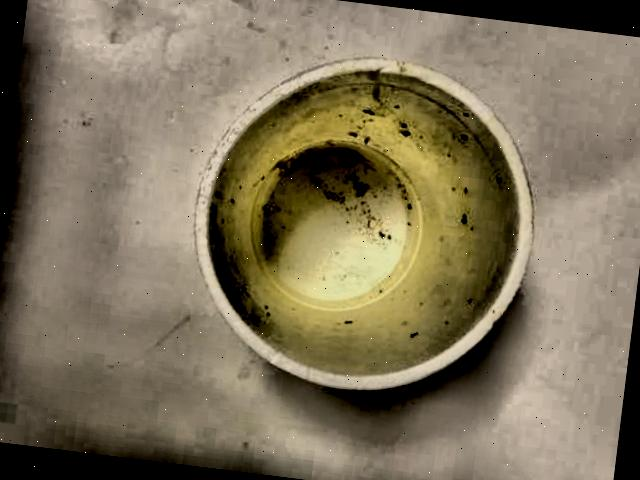Almennt: (167, 38, 567, 419)
